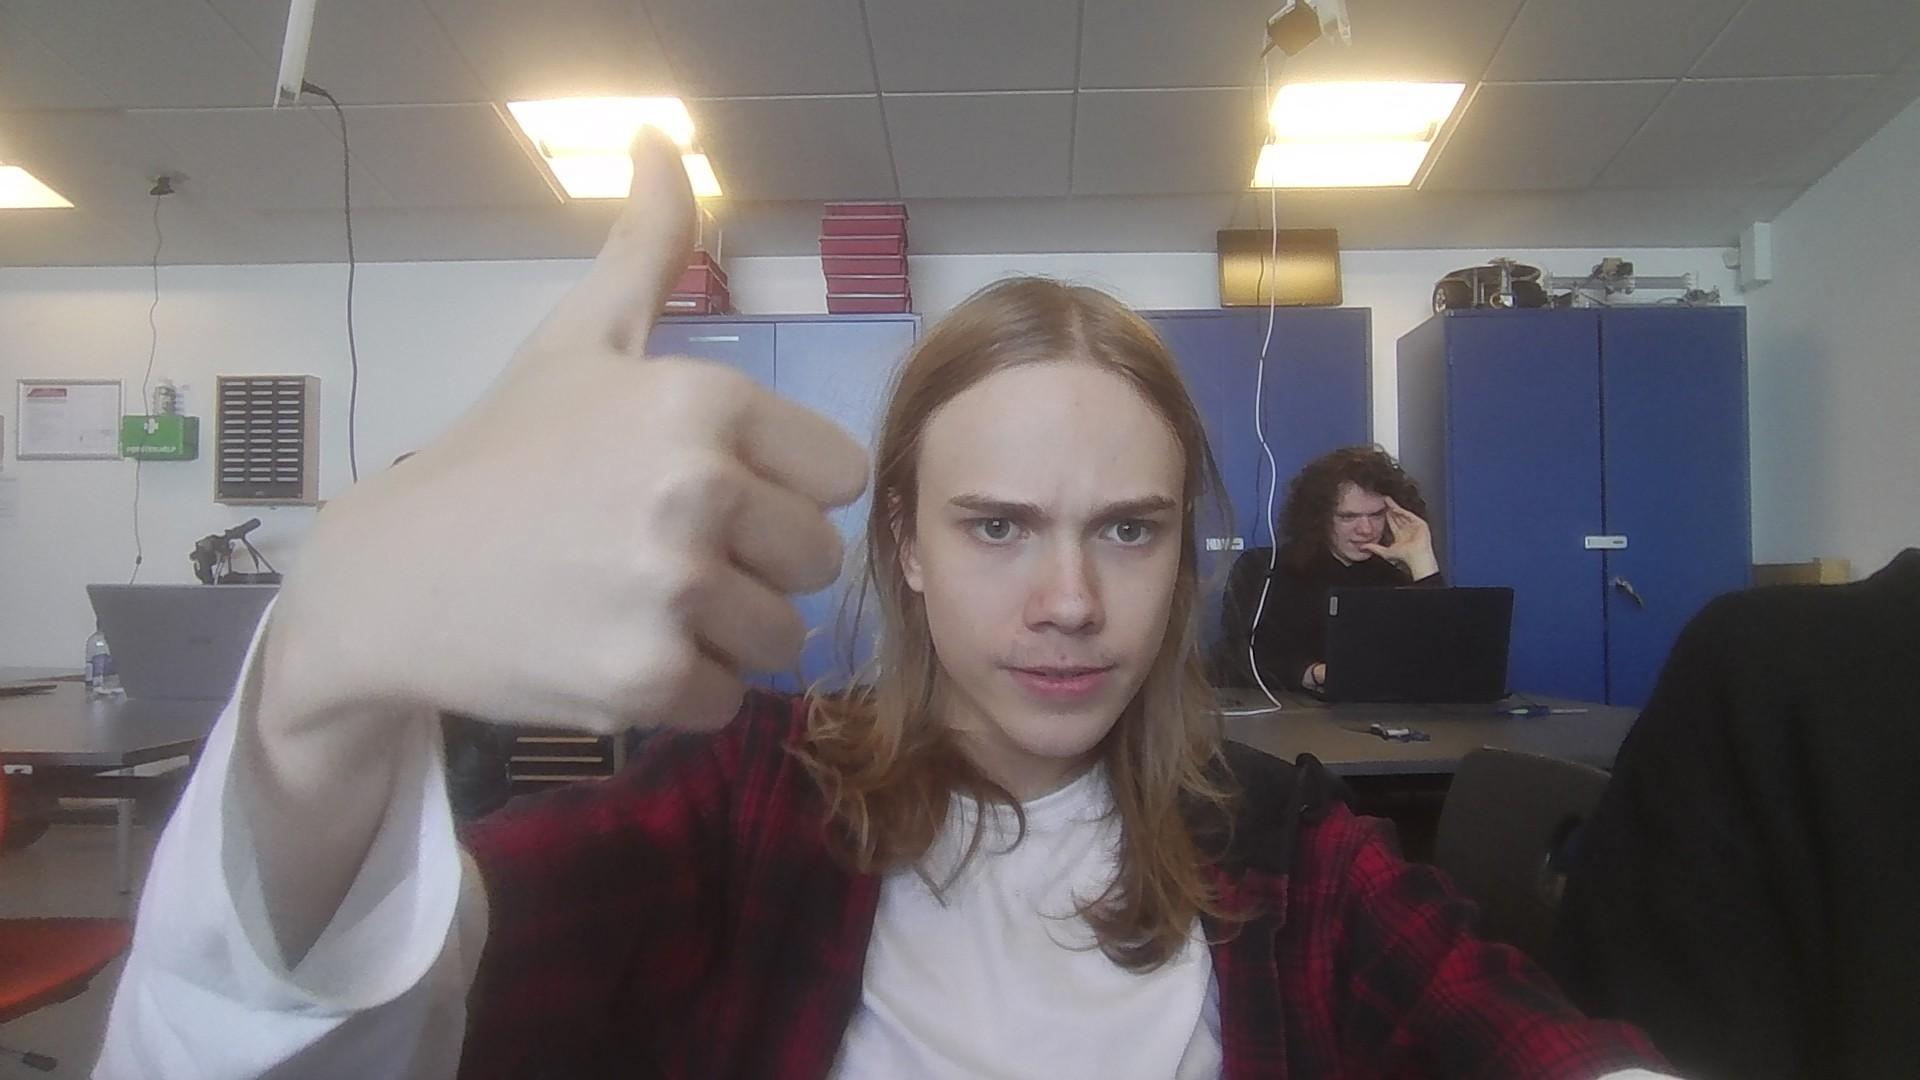thumbs up: (356, 121, 865, 736)
